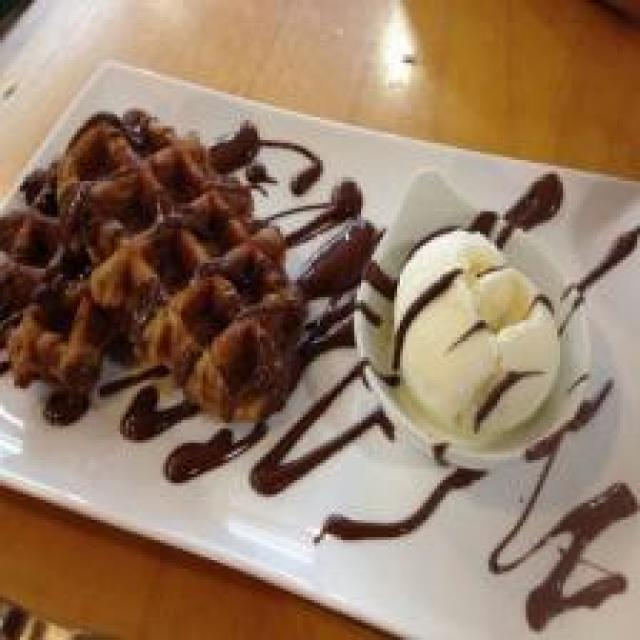Waffles: (1, 93, 296, 450)
